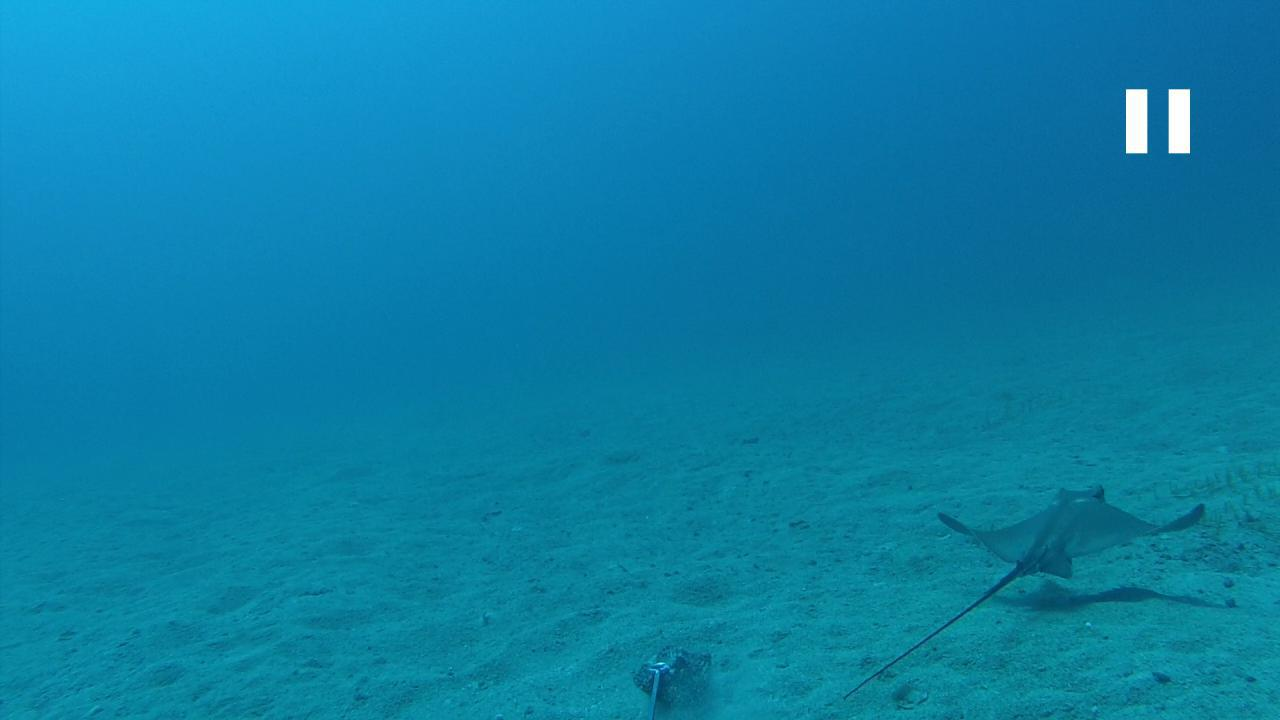dasyatis: (842, 482, 1207, 700)
